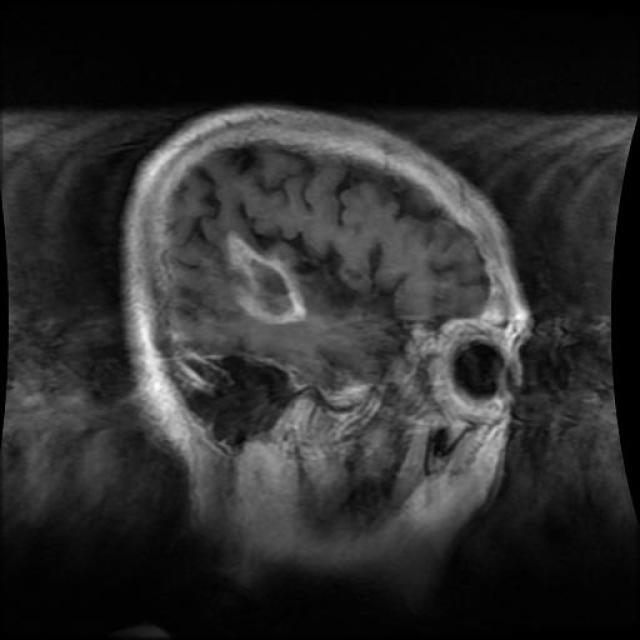glioma: (216, 228, 314, 332)
